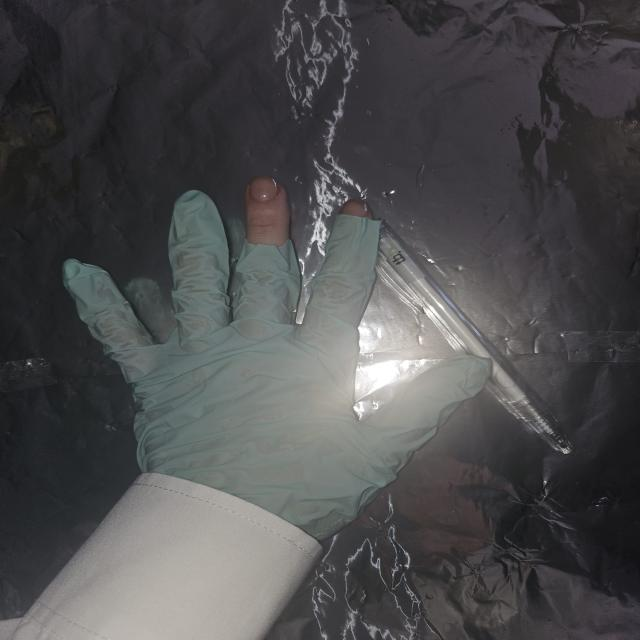gloves_damaged: (57, 174, 494, 542)
